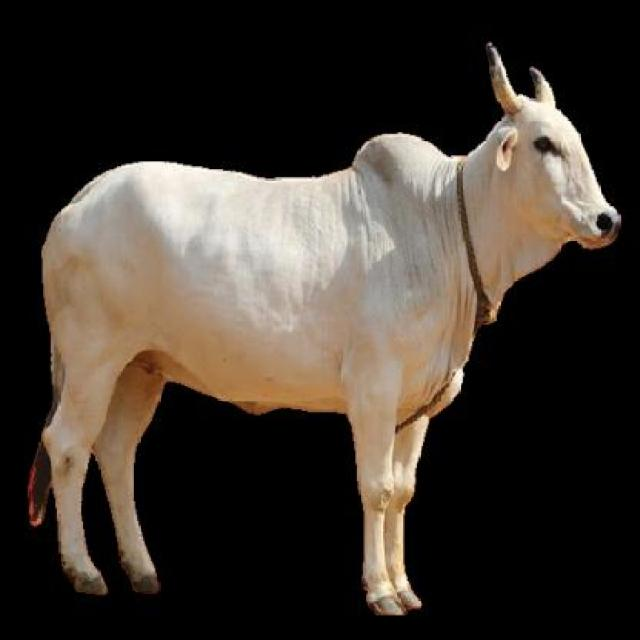Cow: (23, 32, 620, 612)
